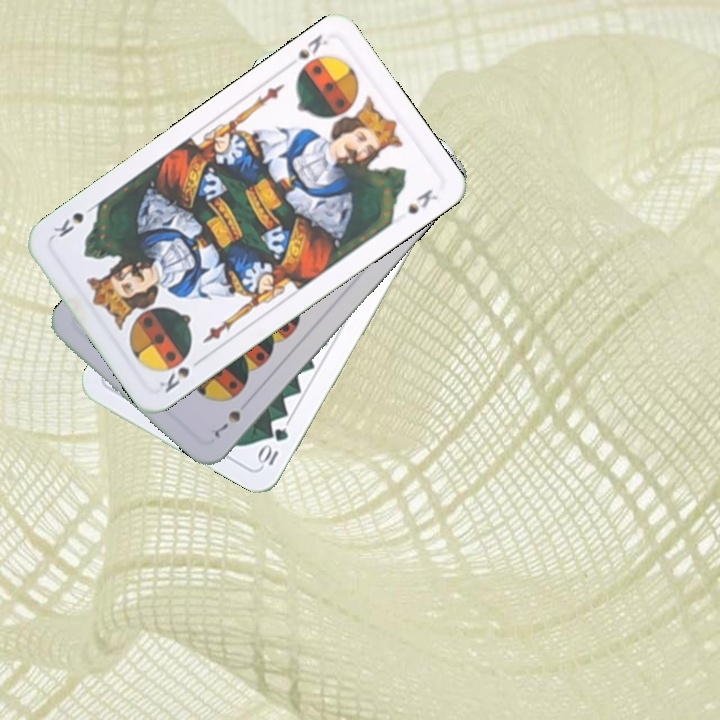G10: (254, 424, 292, 468)
S7: (209, 406, 243, 440)
SK: (154, 350, 194, 396), (293, 30, 331, 62)
